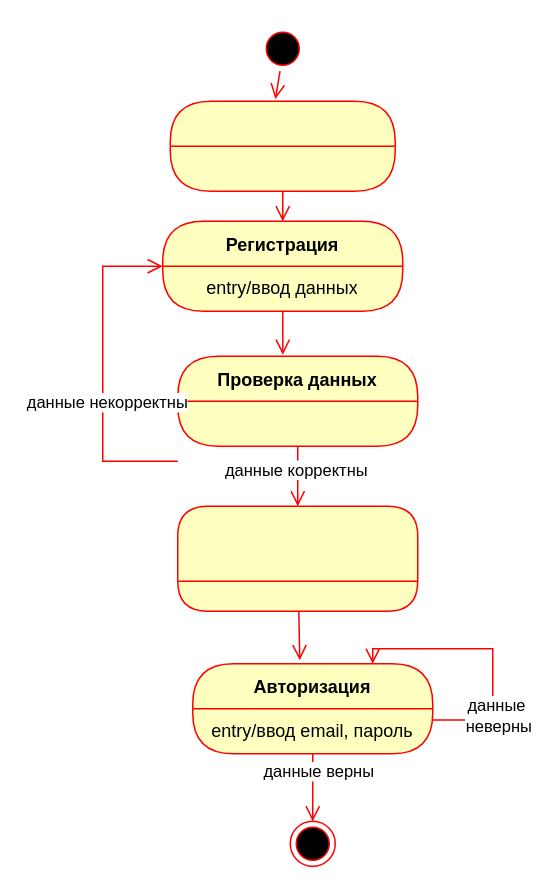
The diagram is 557 pixels wide and 893 high, and some of its shapes have lost their labels. Here are the shapes that lost their labels. From the top down, the box of each, then its label:
(169, 100, 395, 191): Не зарегистрирован
(176, 505, 418, 611): Пользователь добавлен в БД
